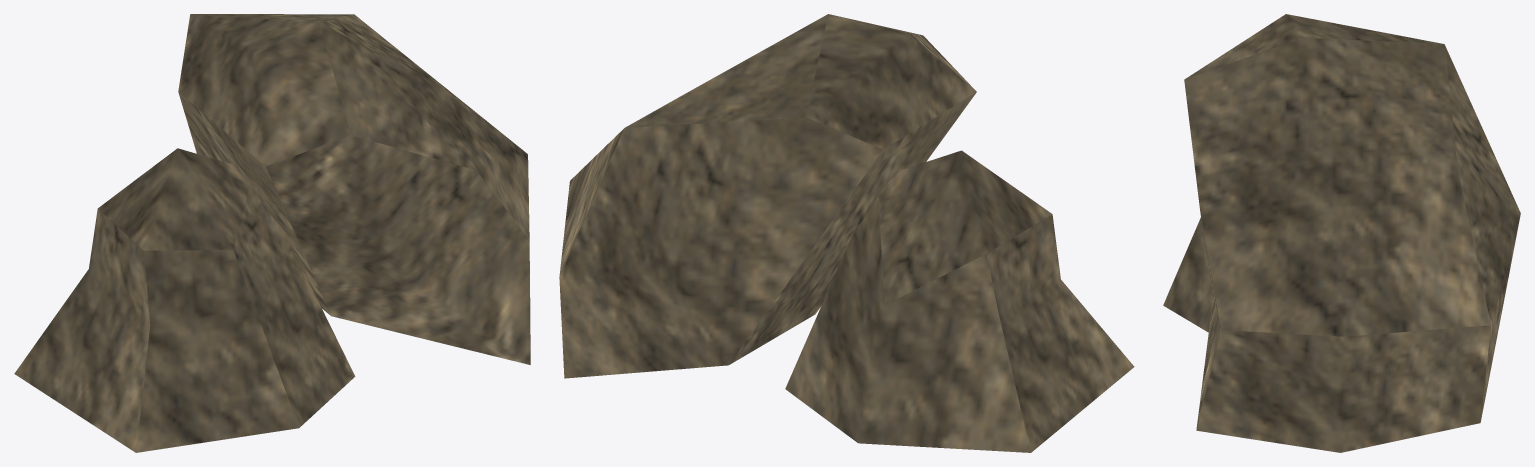
The model's file is rock_gformation2.glb.
The picture shows the model from 3 angles, left to right: view 1: azimuth 30°, elevation 25°; view 2: azimuth 150°, elevation 25°; view 3: azimuth 270°, elevation 25°; orthographic projection. The views are drawn at different scales.
Visible parts, largest first — view 1: Rock_GFormation2; view 2: Rock_GFormation2; view 3: Rock_GFormation2.
Part boxes in pixels (x1,y1,x2,y2): Rock_GFormation2: (14,14,530,452); Rock_GFormation2: (559,14,1134,452); Rock_GFormation2: (1163,14,1520,452).
Size of the model in its own units: 23.54 by 15.82 by 15.99.
1 material, 1 textured.
